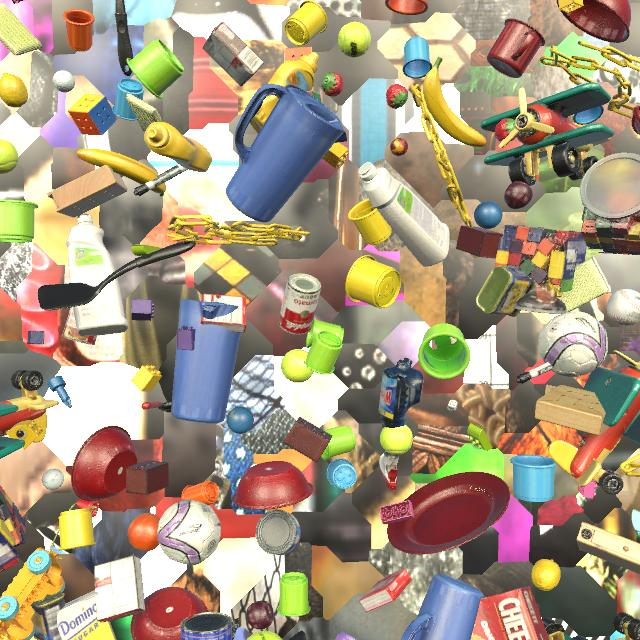ycb_002_master_chef_can: (180, 612, 232, 640)
ycb_003_cracker_box: (471, 587, 549, 640)
ycb_004_sugar_box: (57, 590, 117, 640)
ycb_005_tomato_soup_can: (278, 273, 321, 335), (62, 307, 97, 345)
ycb_006_mustard_bottle: (244, 52, 319, 133), (144, 122, 213, 172)
ycb_007_tuna_fish_can: (256, 509, 301, 555)
ycb_008_pudding_box: (202, 21, 264, 86), (94, 554, 145, 623)
ycb_009_gelatin_box: (359, 568, 412, 612), (201, 294, 246, 333)
ycb_010_potted_meat_can: (476, 266, 537, 317), (31, 591, 65, 640)
ycb_011_banana: (423, 57, 486, 147), (77, 149, 166, 196)
ycb_012_strawberry: (321, 72, 343, 97), (386, 84, 408, 109), (495, 118, 517, 142)
ycb_014_lemon: (0, 72, 28, 108), (532, 559, 561, 591)
ycb_017_orange: (128, 513, 160, 551)
ycb_018_plum: (246, 600, 274, 629), (504, 181, 533, 209)
